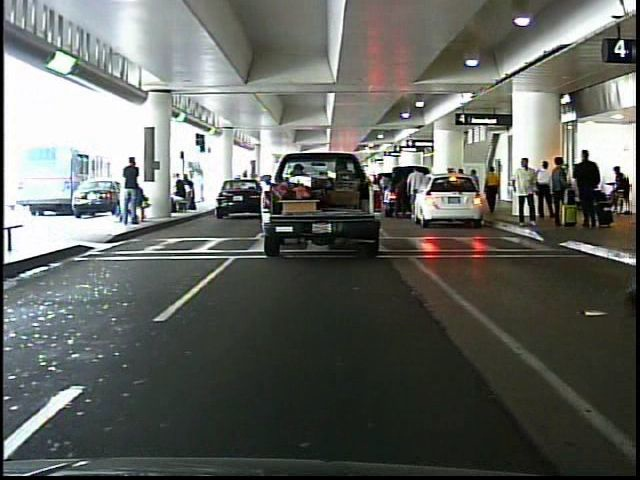person: (572, 145, 610, 232), (510, 156, 542, 234), (123, 158, 146, 229), (406, 163, 431, 222), (550, 154, 569, 228), (536, 161, 556, 223), (485, 163, 502, 217), (607, 160, 631, 194)
